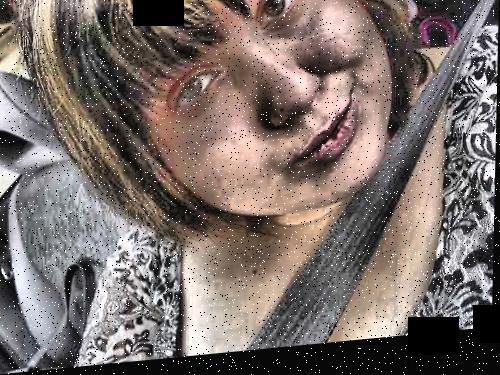seatbelt: (242, 32, 483, 348)
